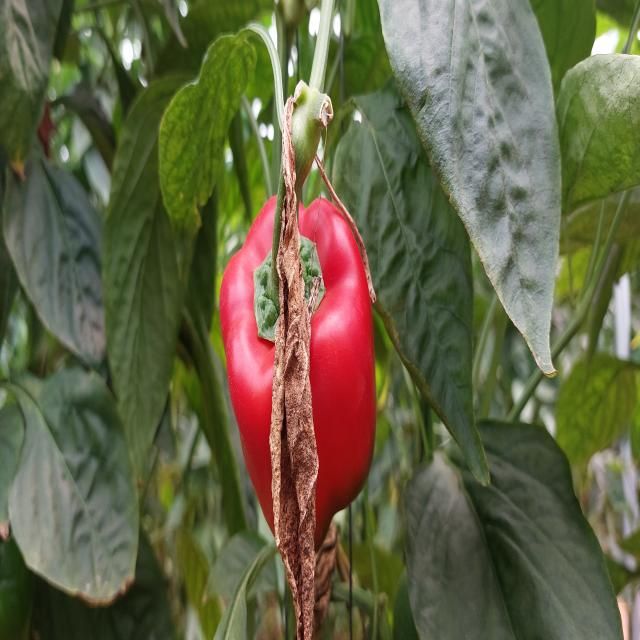Red-Ready-to-Harvest: (220, 177, 386, 558)
